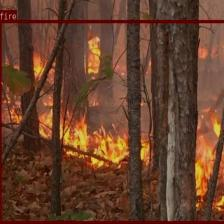fire: (0, 20, 224, 223)
